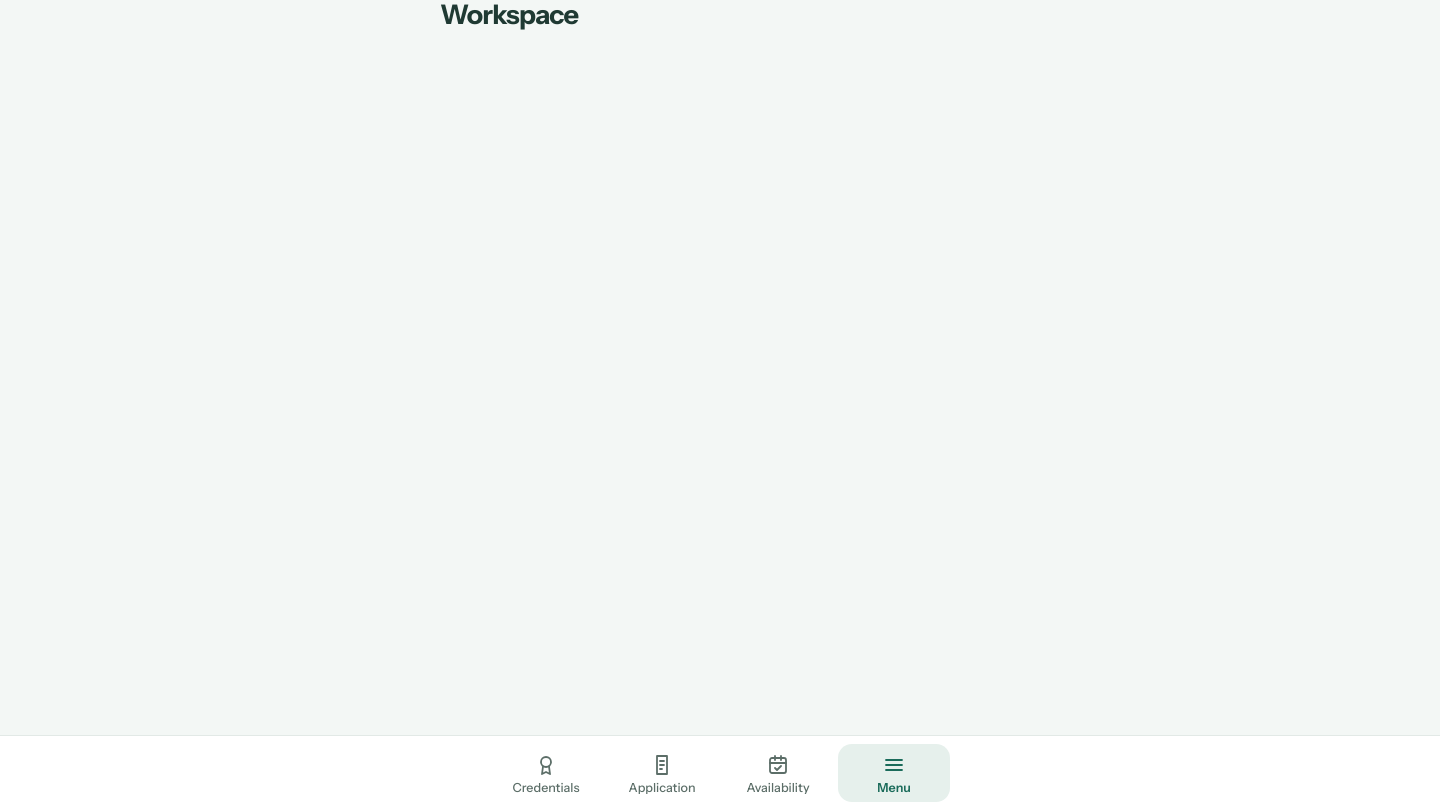
shows only limited account/settings sections to a pending applicant
Step 1. Click the button "Menu" → (894, 773), box [838,744,950,802]
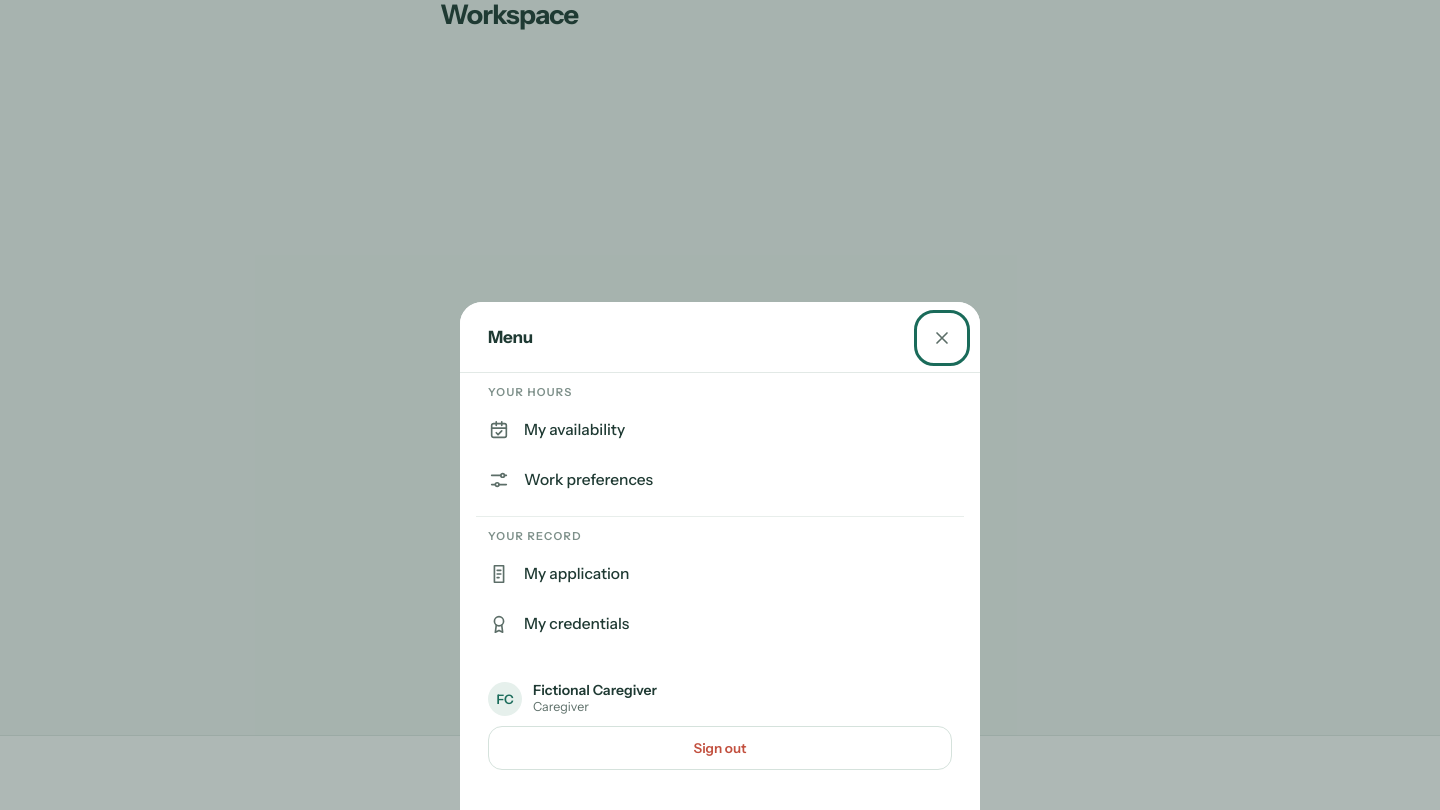
Check: the link "My application" is shown, box [488,563,629,585]
Check: the link "My credentials" is shown, box [488,613,629,635]
